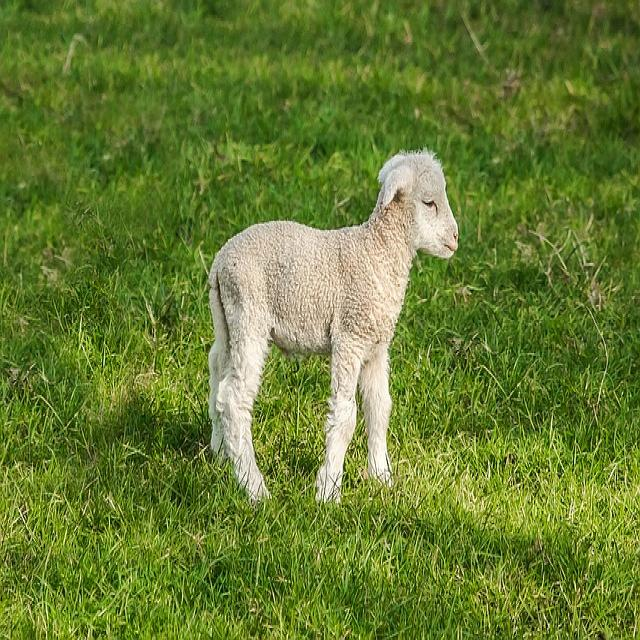goat: (209, 152, 458, 500)
